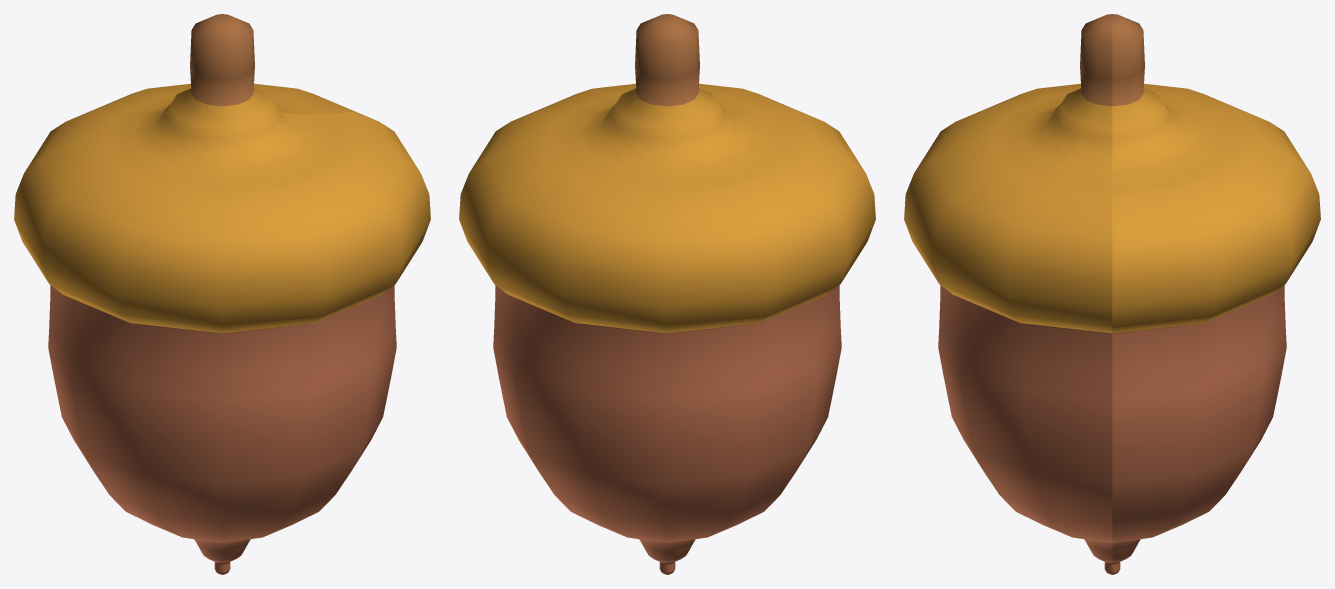
Rendered from zir2.fbx.
The picture shows the model from 3 angles, left to right: view 1: azimuth 30°, elevation 25°; view 2: azimuth 150°, elevation 25°; view 3: azimuth 270°, elevation 25°; orthographic projection.
Visible parts, largest first — view 1: Zir; view 2: Zir; view 3: Zir.
Boxes of the visible parts, <box> form: Zir: <box>14,14,430,574</box>; Zir: <box>459,14,875,574</box>; Zir: <box>904,14,1320,574</box>.
Bounding box in the file's own units: 226 × 332 × 226.
